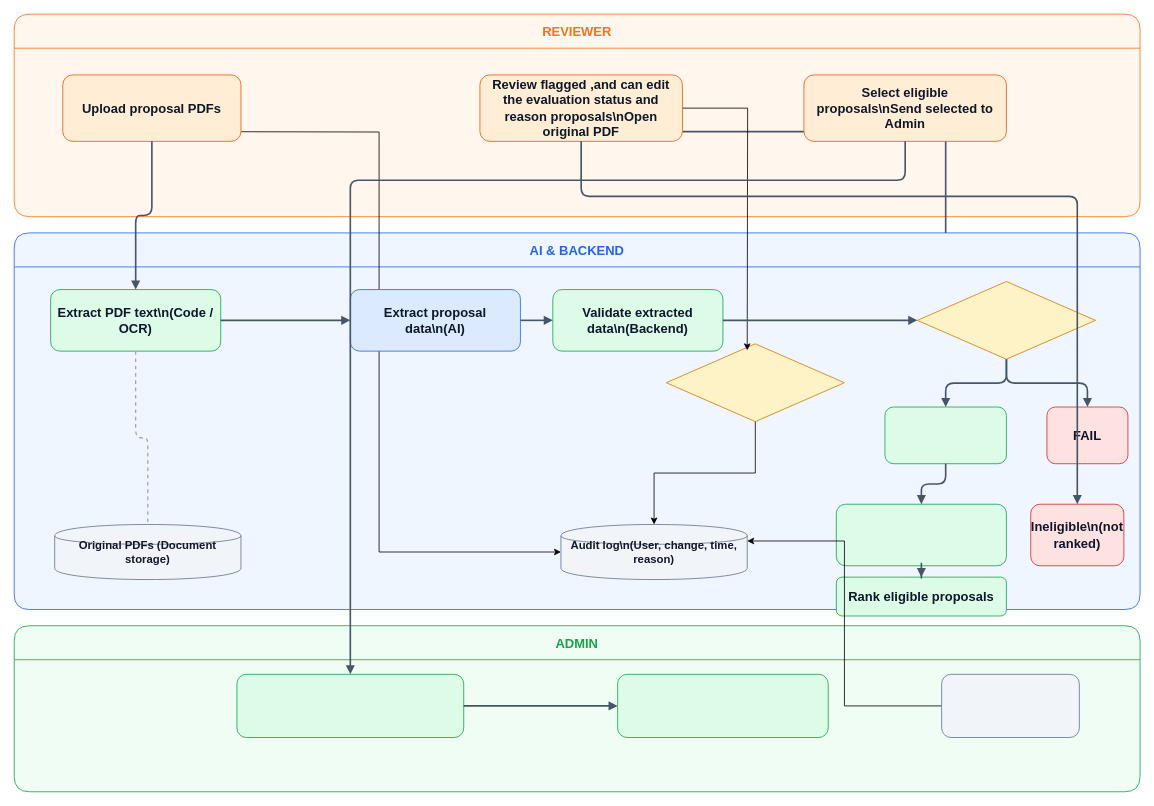
The diagram is 1154 pixels wide and 806 high, and some of its shapes have lost their labels. Each missing label, with the centre of its shape:
"Calculate weighted score by applying rules adn criteria set by admin\n(Backend)" belongs at [921,534].
"Check mandatory\nrequirements" belongs at [1006,320].
"Decision recorded" belongs at [1010,706].
"Final decision\nApprove / Reject" belongs at [722,706].
"Is Editited By Reviwer" belongs at [754,382].
"PASS" belongs at [945,435].
"View submitted proposals\nDetails, scores, evidence, PDF" belongs at [350,706].
